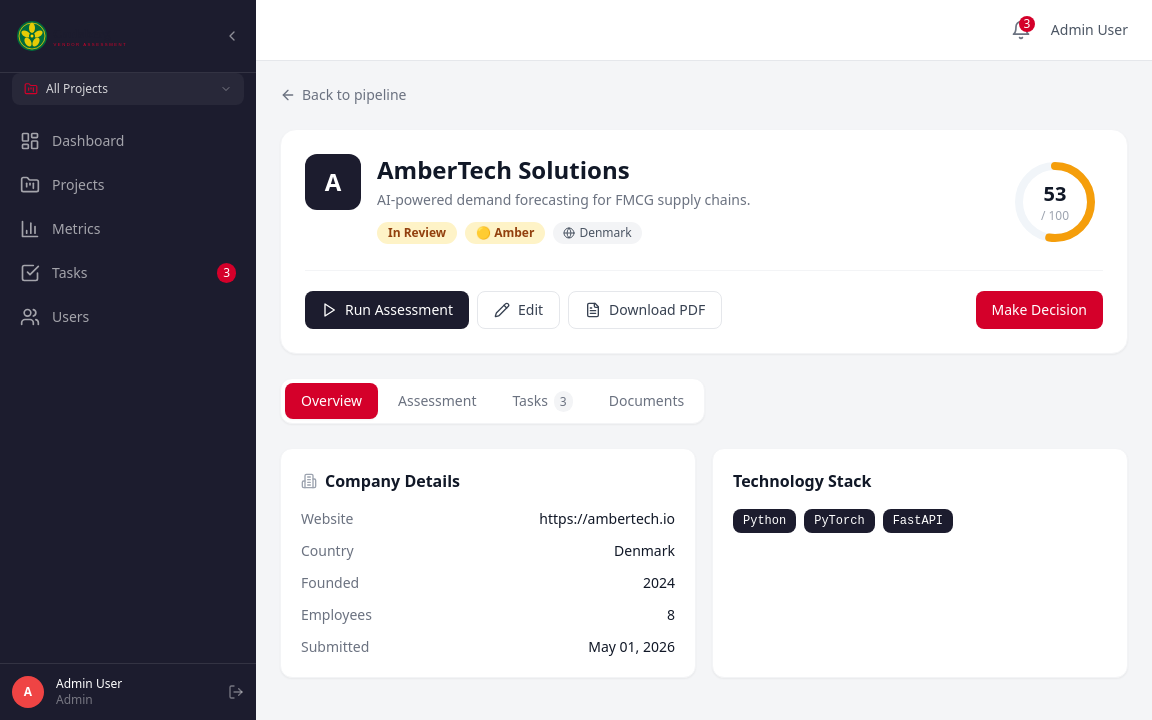
Test: VendorDetailPage › opens approve modal when Make Decision is clicked
Expected: the heading "AmberTech Solutions" is shown, [377, 153, 630, 186]
What coordinates should you click on to do the following:
click the button "Make Decision"
I would click on:
 (1039, 310)
Its box is [976, 291, 1103, 329].
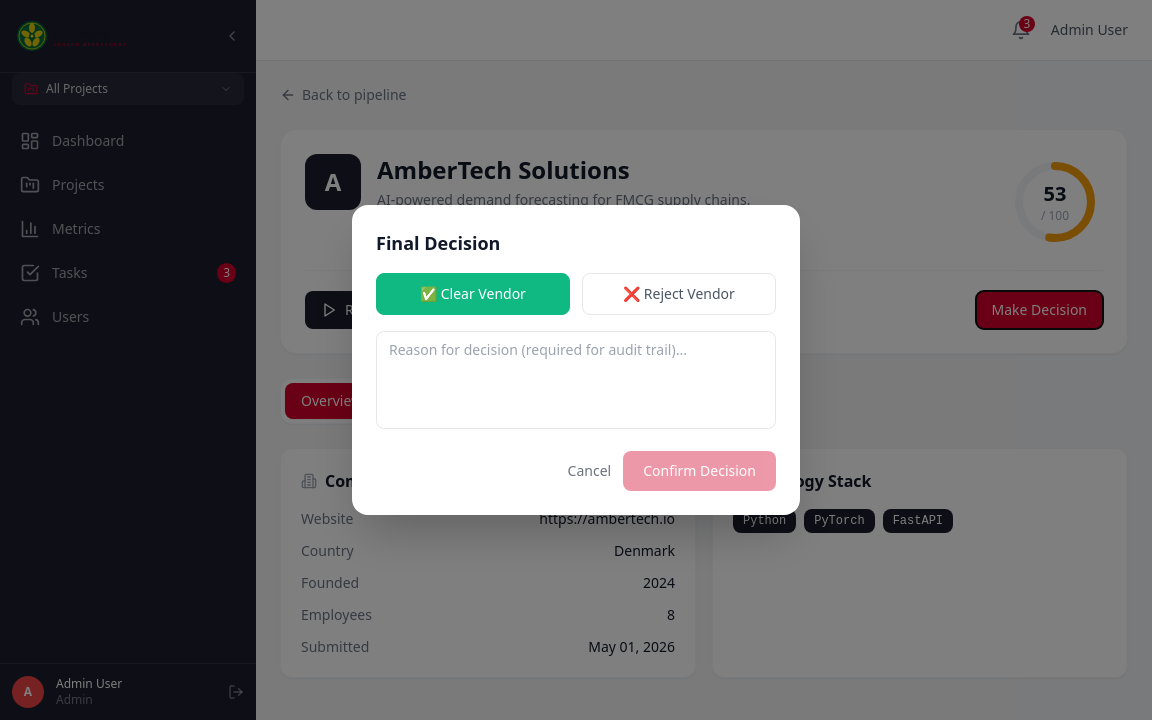
Result: the heading "Final Decision" is shown at [376, 231, 500, 255]
Result: the button "✅ Clear Vendor" is shown at [376, 273, 570, 315]
Result: the button "❌ Reject Vendor" is shown at [582, 273, 776, 315]
